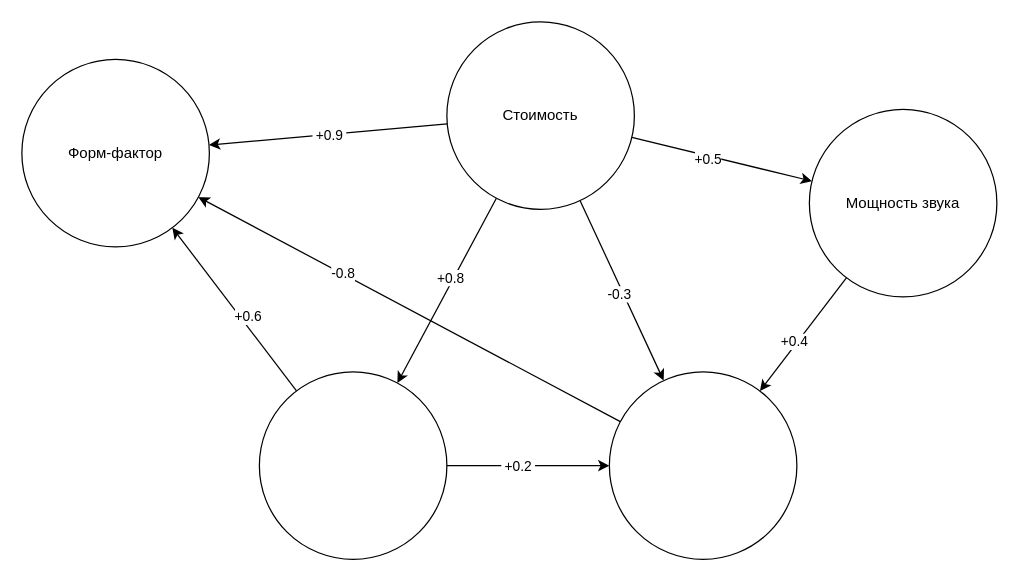
The diagram is 1019 pixels wide and 581 high, and some of its shapes have lost their labels. Here are the shapes that lost their labels. From the top down, the box of each, then its label:
(258, 371, 447, 559): Разрешение экрана
(608, 371, 797, 559): Энергопотребление
